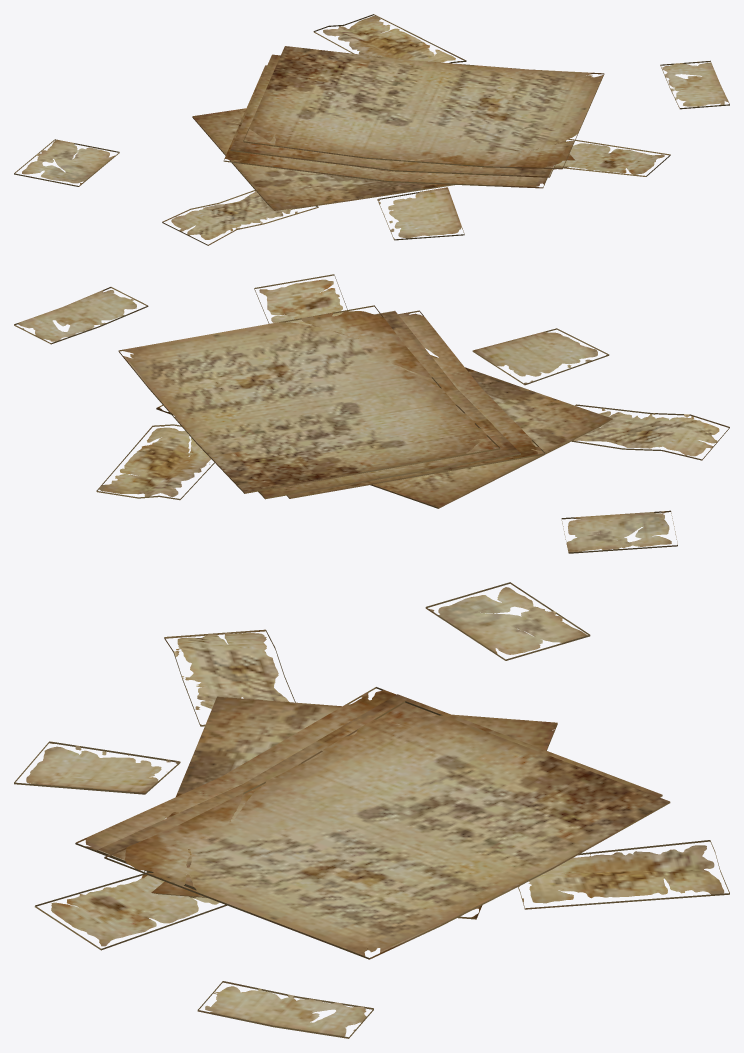
Rendered from paper03.DAE.
3 renders of one model, top to bottom at view 1: azimuth 30°, elevation 25°; view 2: azimuth 150°, elevation 25°; view 3: azimuth 270°, elevation 25°, orthographic. The views are drawn at different scales.
Visible parts, largest first — view 1: paper03; view 2: paper03; view 3: paper03.
Boxes of the visible parts, <box> form: paper03: <box>14,14,729,245</box>; paper03: <box>14,274,729,553</box>; paper03: <box>14,582,729,1038</box>.
Size of the model in its own units: 0.5803 by 0.0138 by 0.3893.
